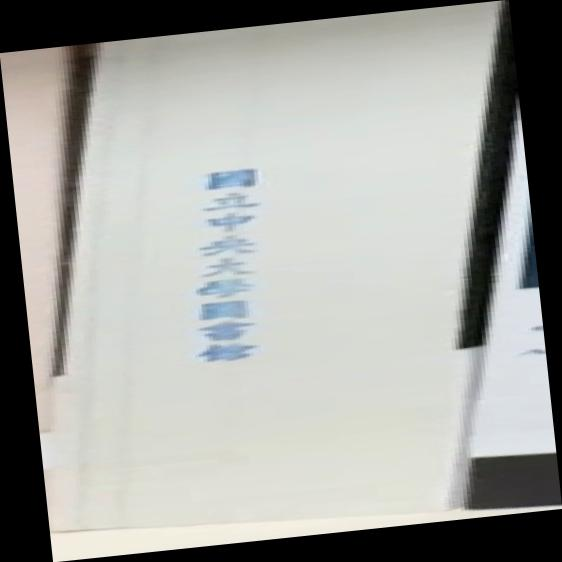backward: (1, 1, 559, 562)
